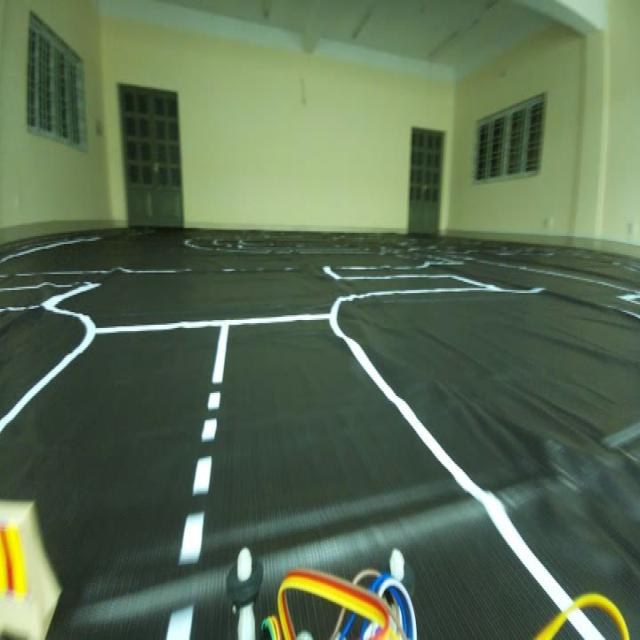roadblock: (1, 494, 59, 640)
